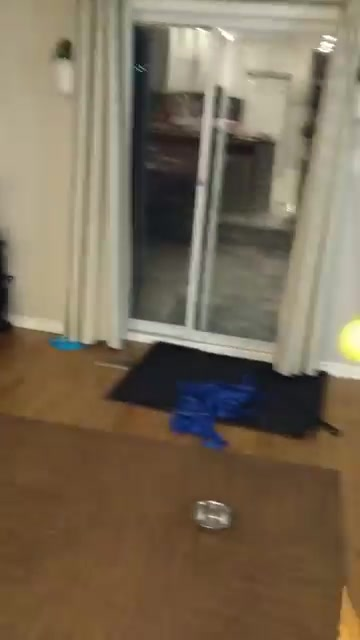tennis_ball: (338, 316, 360, 365)
